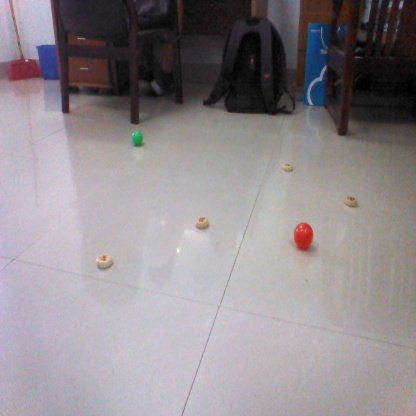ball: (294, 223, 318, 250), (129, 129, 146, 145)
chess: (343, 191, 363, 209), (94, 251, 112, 271), (277, 162, 299, 178), (196, 213, 215, 230)
